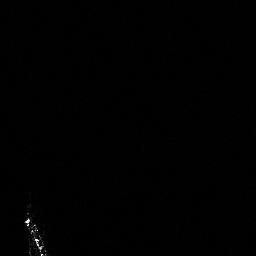ship: (19, 208, 52, 256)
